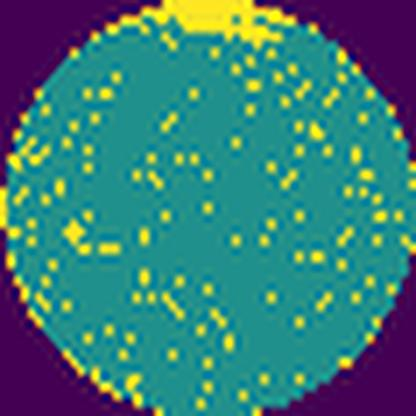Edge-Loc: (140, 0, 290, 45)
